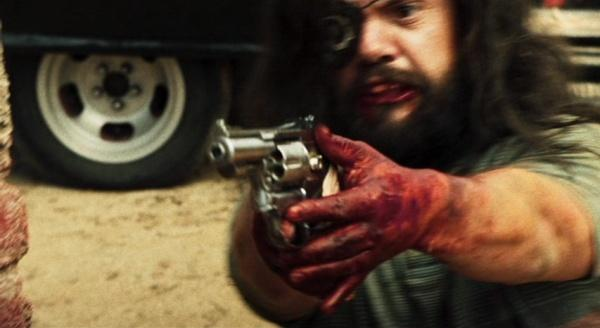Gun: (205, 116, 337, 220)
